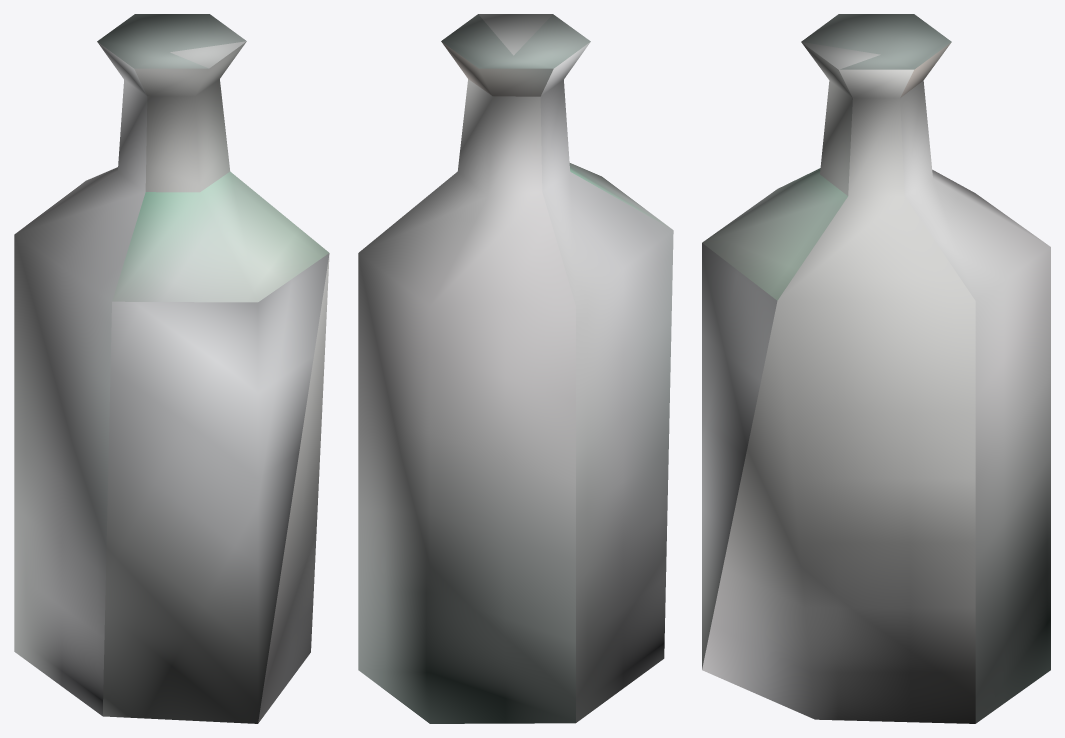
File: office-lab-bottle.glb
3 renders of one model, left to right at view 1: azimuth 30°, elevation 25°; view 2: azimuth 150°, elevation 25°; view 3: azimuth 270°, elevation 25°, orthographic.
Visible parts, largest first — view 1: lab-bottle; view 2: lab-bottle; view 3: lab-bottle.
Boxes of the visible parts, bbox=[...] form: lab-bottle: bbox=[14, 14, 329, 723]; lab-bottle: bbox=[358, 14, 673, 723]; lab-bottle: bbox=[702, 14, 1050, 723].
Size of the model in its own units: 0.0807 by 0.22 by 0.1106.
1 material, 1 textured.
